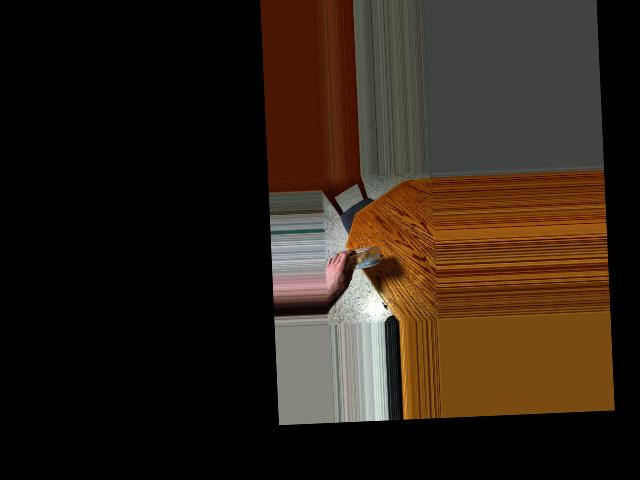cheese: (334, 237, 383, 287)
